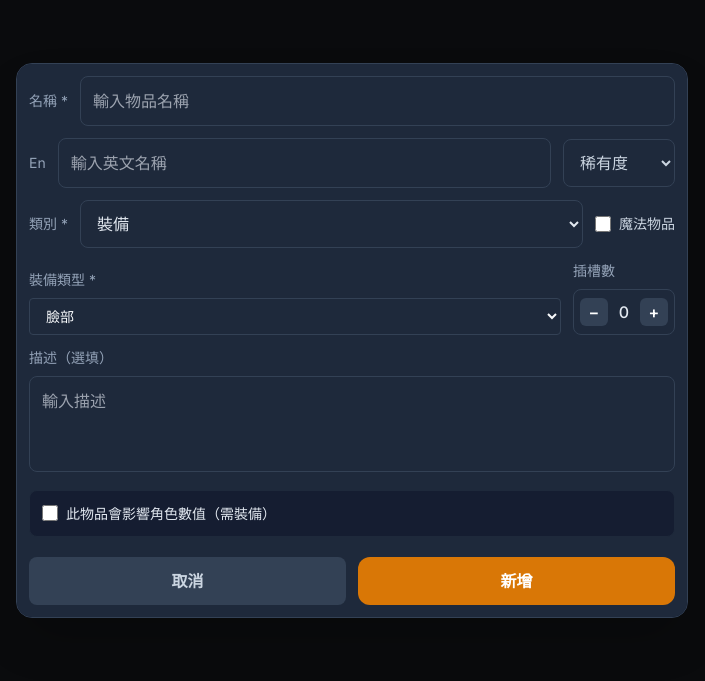
Scenario: AddPersonalItemModal - 表單版面配置 › 數值加成勾選框文字為「此效果會影響角色數值」，不再顯示舊文字「同時附加數值加成（選填）」
Select "MH素材" in the dropdown showing "裝備" next to "類別 *" at {"x": 332, "y": 224}, box [80, 200, 583, 248]
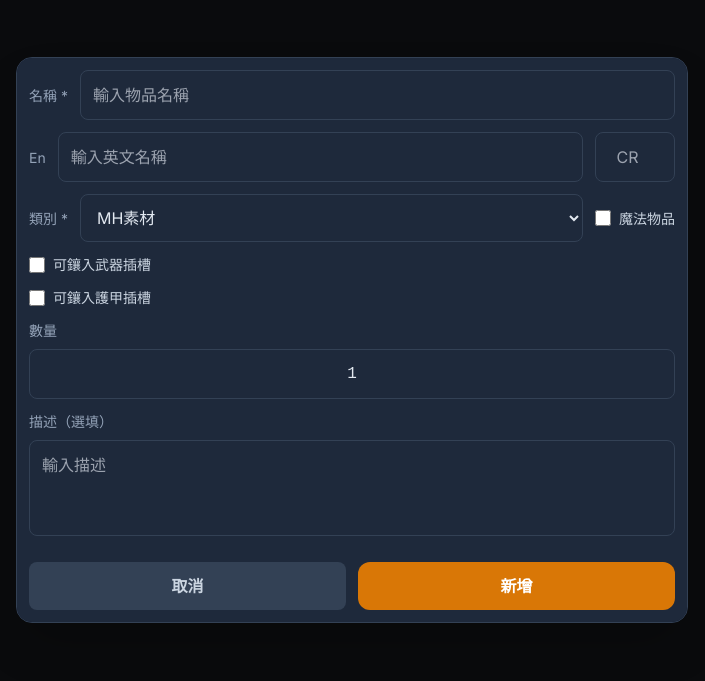
Click the text "可鑲入武器插槽" at {"x": 90, "y": 264}, box [29, 256, 151, 273]
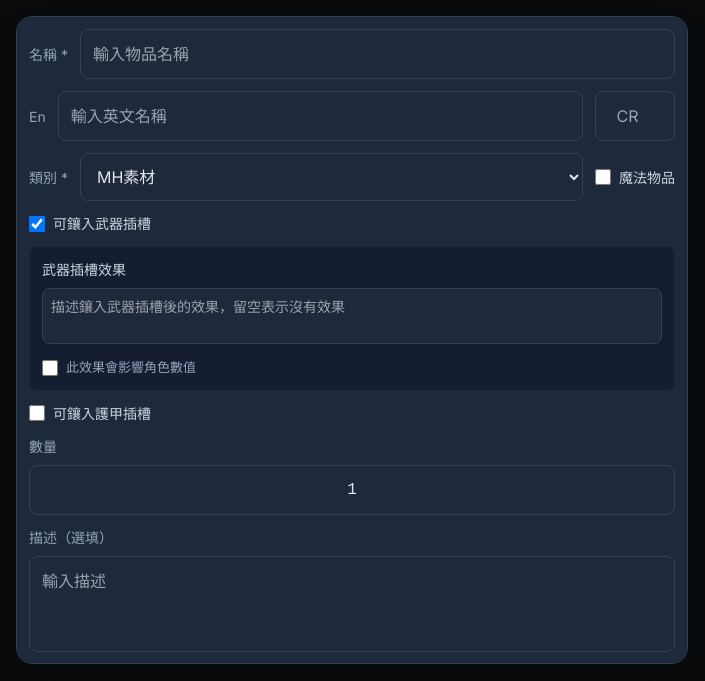
Click the text "可鑲入護甲插槽" at {"x": 90, "y": 413}, box [29, 404, 151, 422]
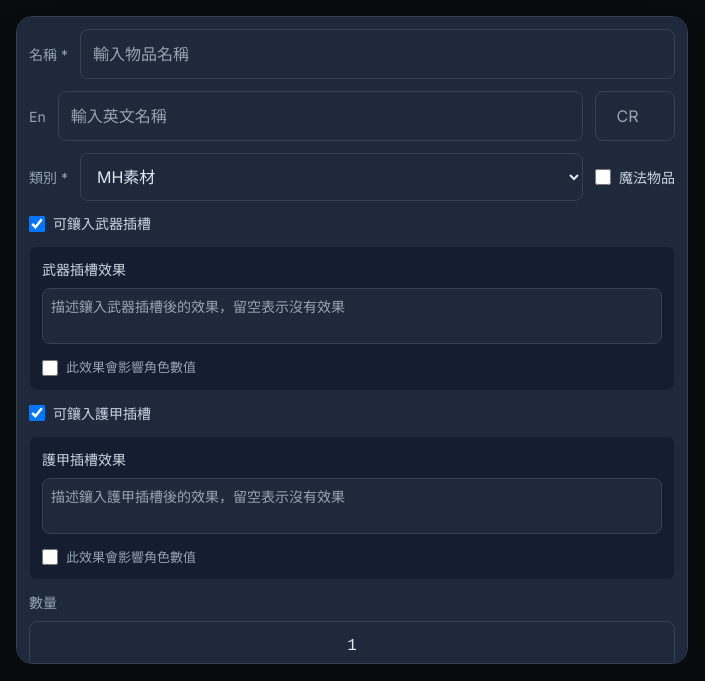
Check: the text "此效果會影響角色數值" is shown 2 times, box [42, 359, 196, 376]; [42, 548, 196, 565]
